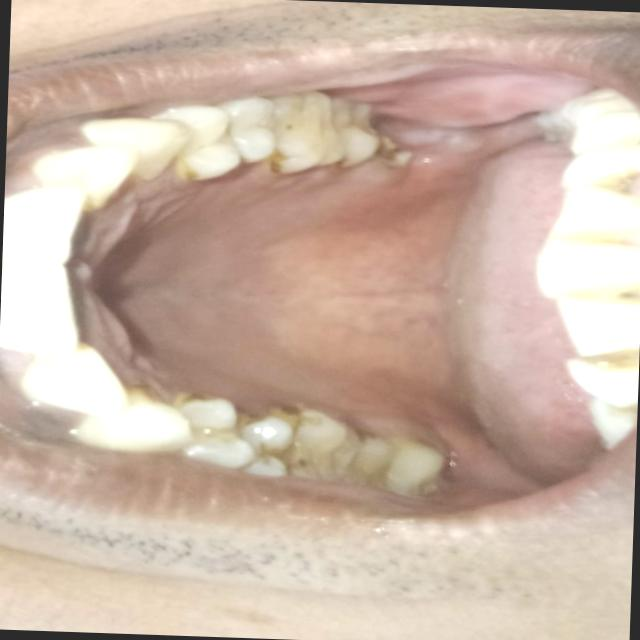No Cancer: (253, 166, 544, 424)
